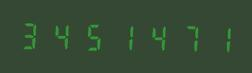five: (79, 19, 109, 52)
four: (48, 18, 78, 52), (141, 20, 171, 53)
one: (110, 19, 140, 53), (203, 21, 233, 54)
seven: (172, 20, 202, 54)
three: (17, 18, 47, 51)
